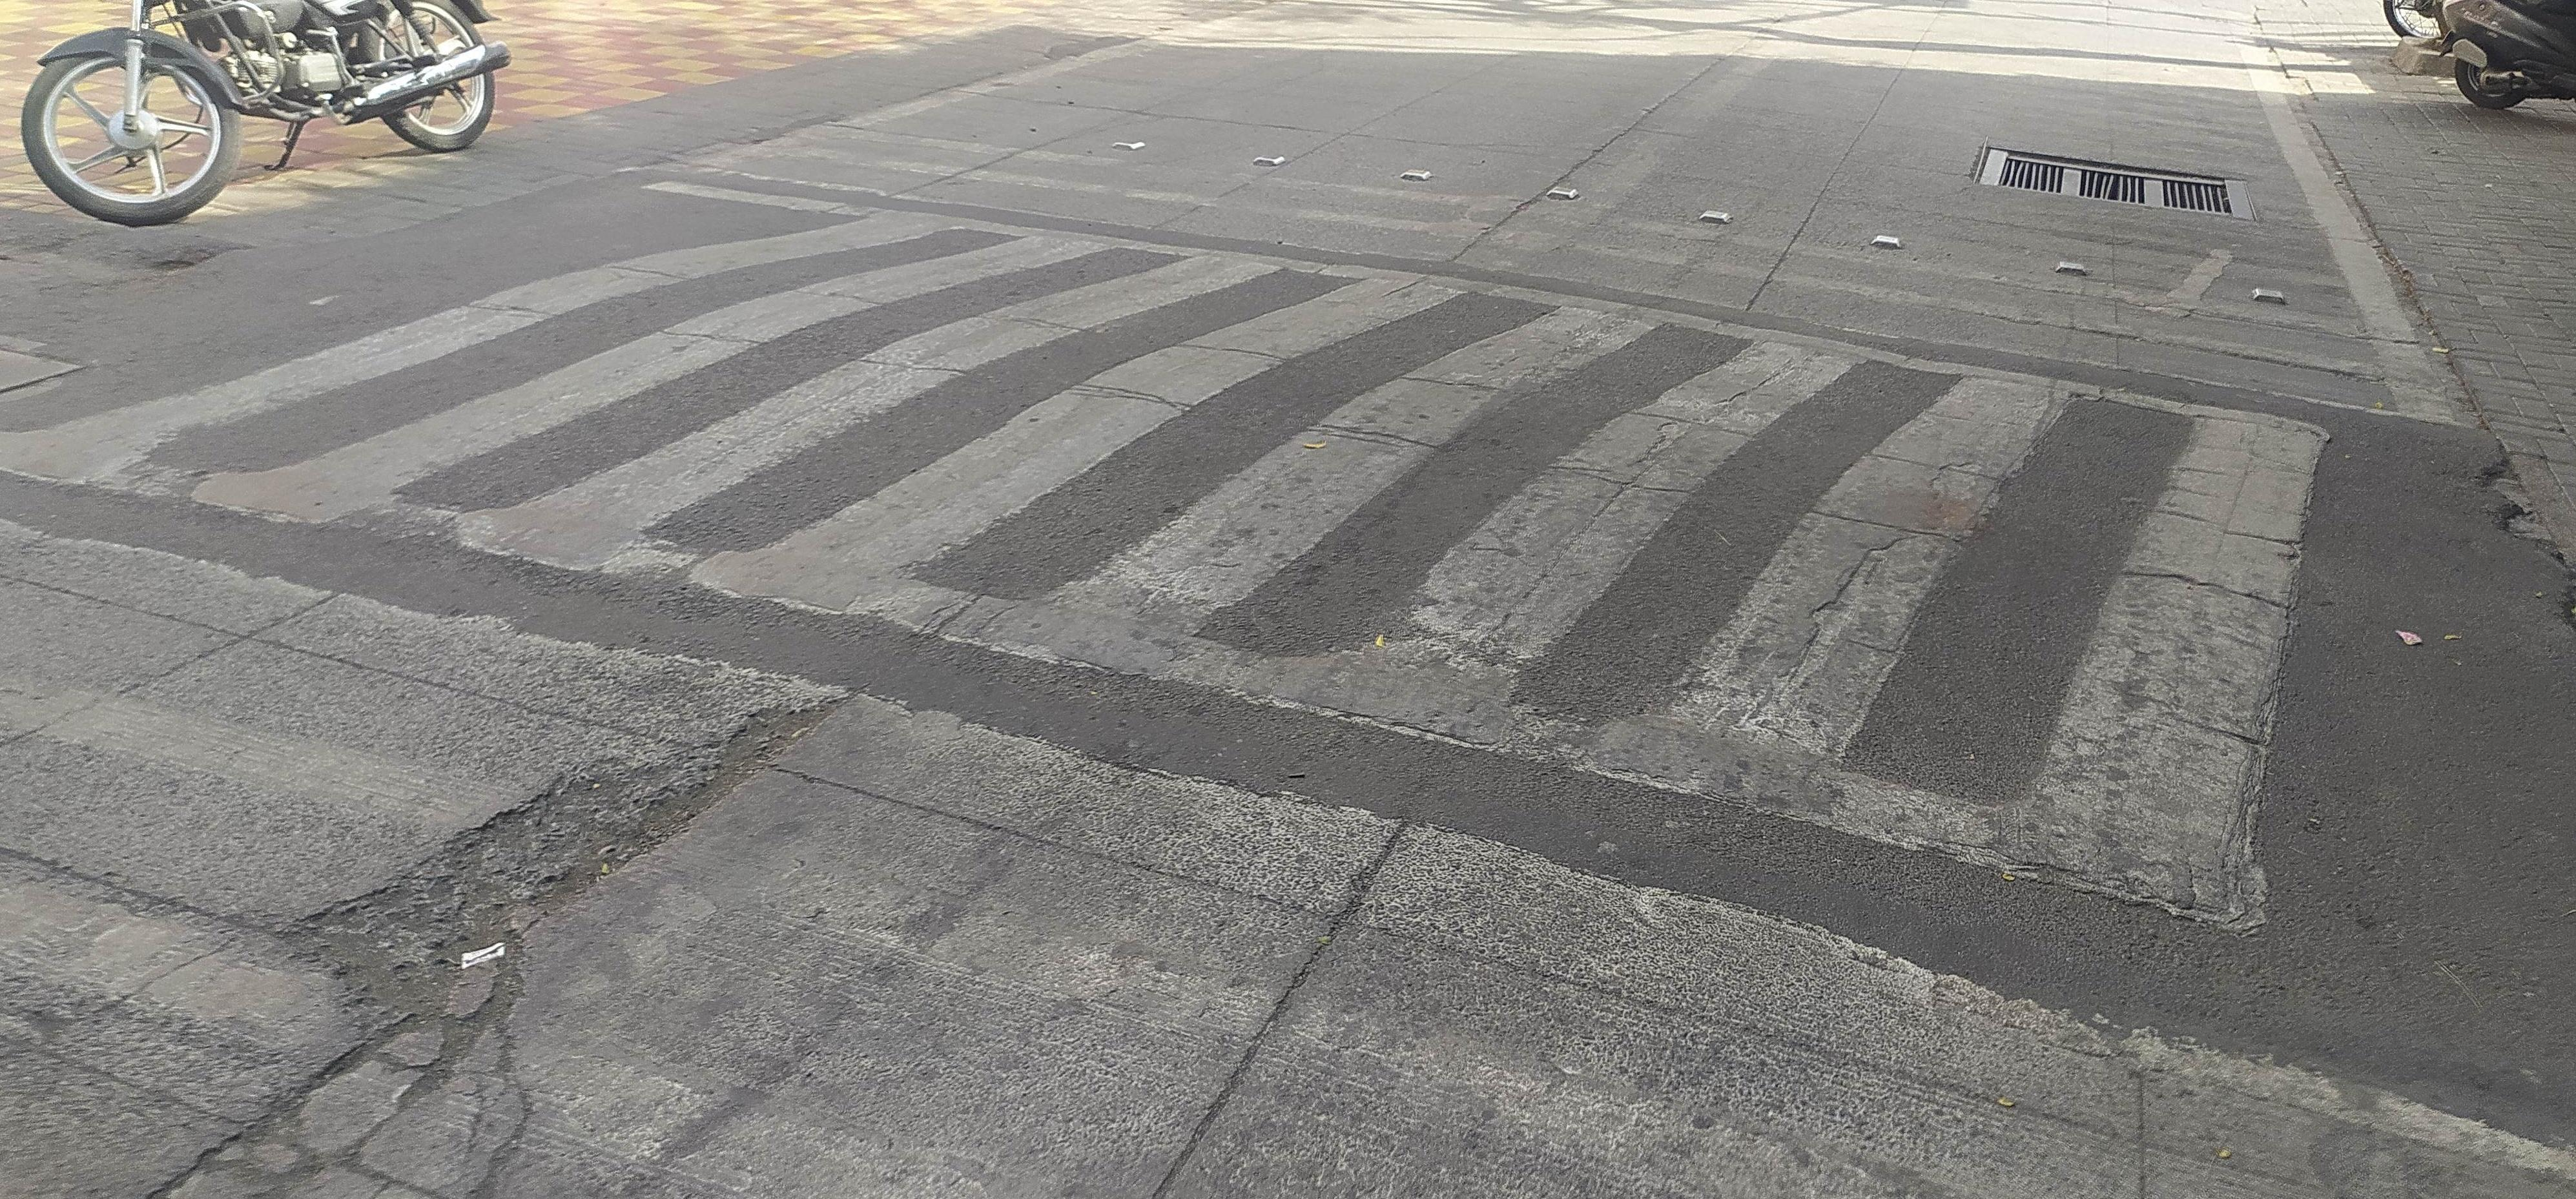speed-bump: (5, 155, 2575, 1148)
